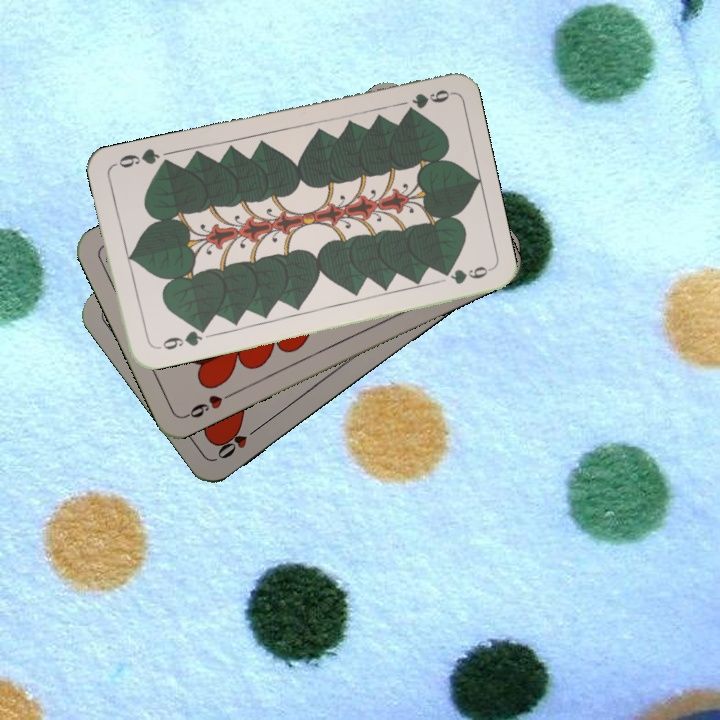G9: (150, 324, 208, 353), (401, 85, 453, 117)
H9: (180, 388, 236, 421)
HO: (213, 421, 264, 462)
